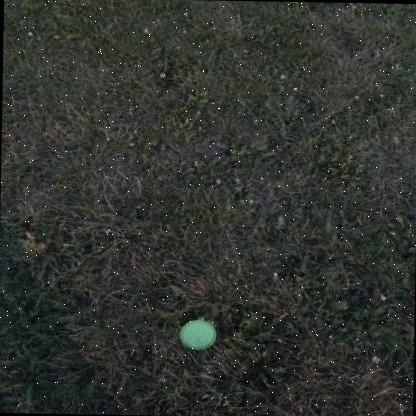Plastic bottle cap: (179, 320, 216, 350)
